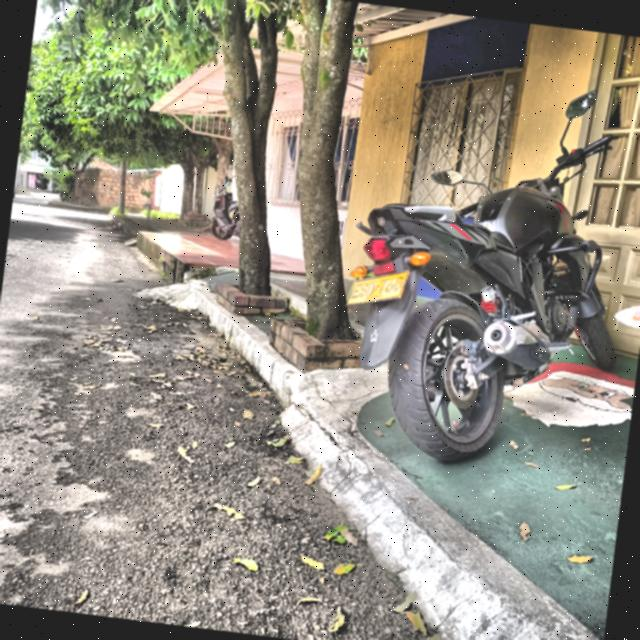6: (383, 277, 396, 293)
7: (377, 278, 389, 294)
E: (350, 283, 362, 299)
G: (392, 275, 404, 292)
O: (364, 281, 377, 296)
S: (358, 282, 369, 298)
